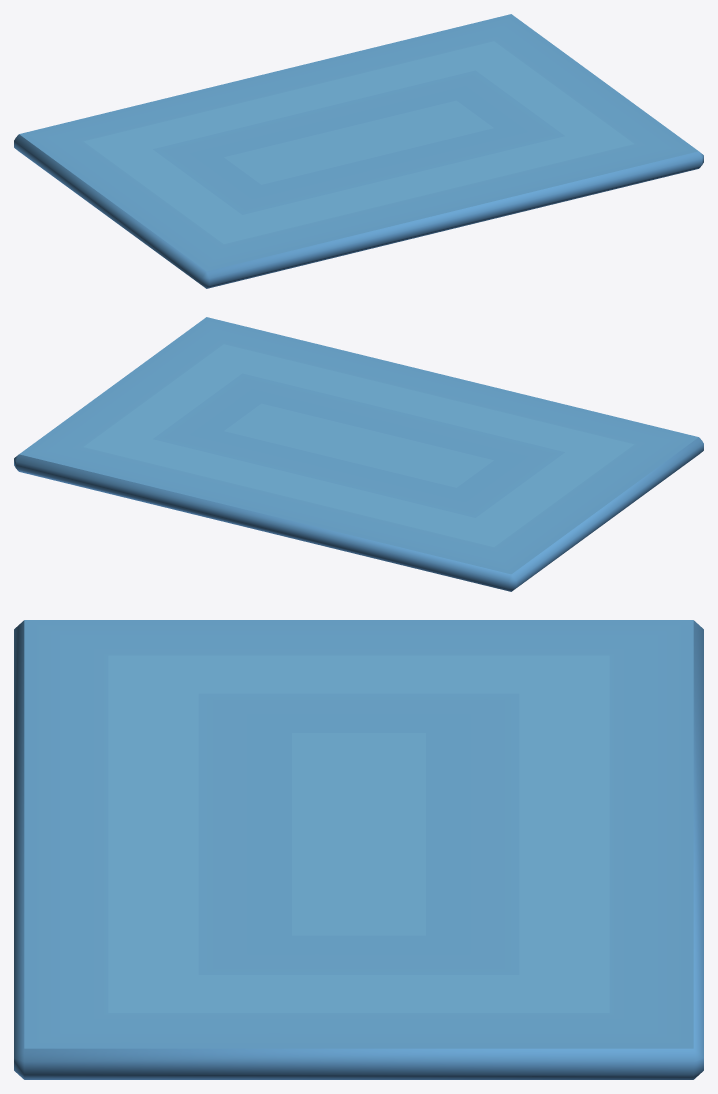
The model's file is rug_rectangle_stripes_B.obj.
3 renders of one model, top to bottom at view 1: azimuth 30°, elevation 25°; view 2: azimuth 150°, elevation 25°; view 3: azimuth 270°, elevation 25°, orthographic. The views are drawn at different scales.
Parts seen in each view (by area): view 1: rug_rectangle_stripes_B_Cube.011; view 2: rug_rectangle_stripes_B_Cube.011; view 3: rug_rectangle_stripes_B_Cube.011.
Part boxes in pixels (bbox=[...]): rug_rectangle_stripes_B_Cube.011: bbox=[14, 14, 703, 288]; rug_rectangle_stripes_B_Cube.011: bbox=[14, 317, 703, 591]; rug_rectangle_stripes_B_Cube.011: bbox=[14, 620, 703, 1079].
Size of the model in its own units: 3 by 0.1 by 2.
1 material, 1 textured.
